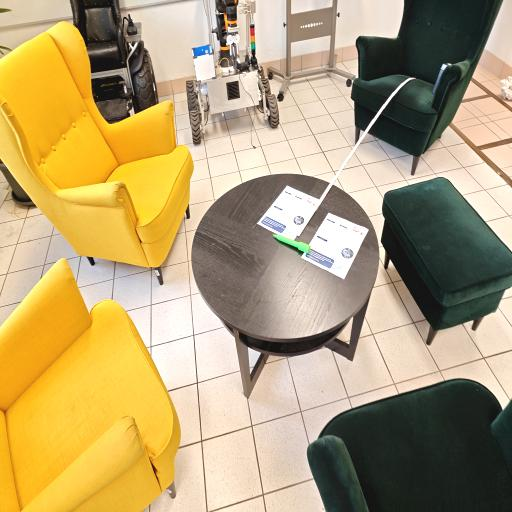Probe-Detection: (273, 234, 310, 253)
